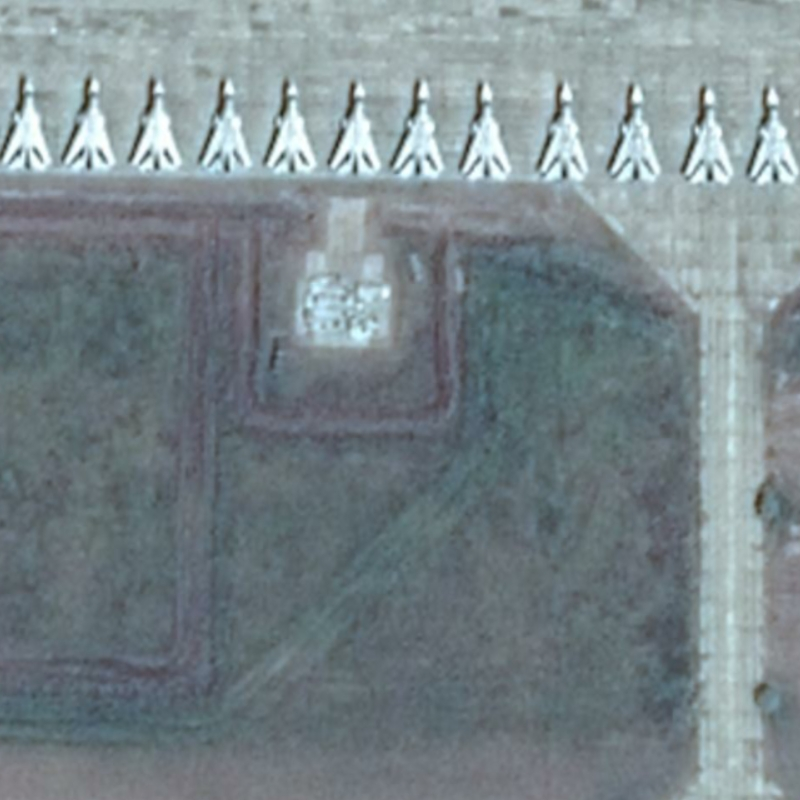A20: (57, 70, 123, 176), (532, 75, 594, 187), (124, 70, 189, 176), (678, 77, 740, 188), (602, 78, 664, 188), (260, 74, 324, 180), (389, 73, 449, 185), (457, 74, 516, 186), (323, 74, 384, 182), (743, 78, 800, 190), (197, 73, 255, 177), (1, 69, 56, 172)
